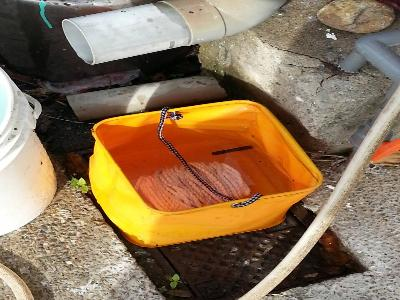box: (85, 93, 324, 250)
